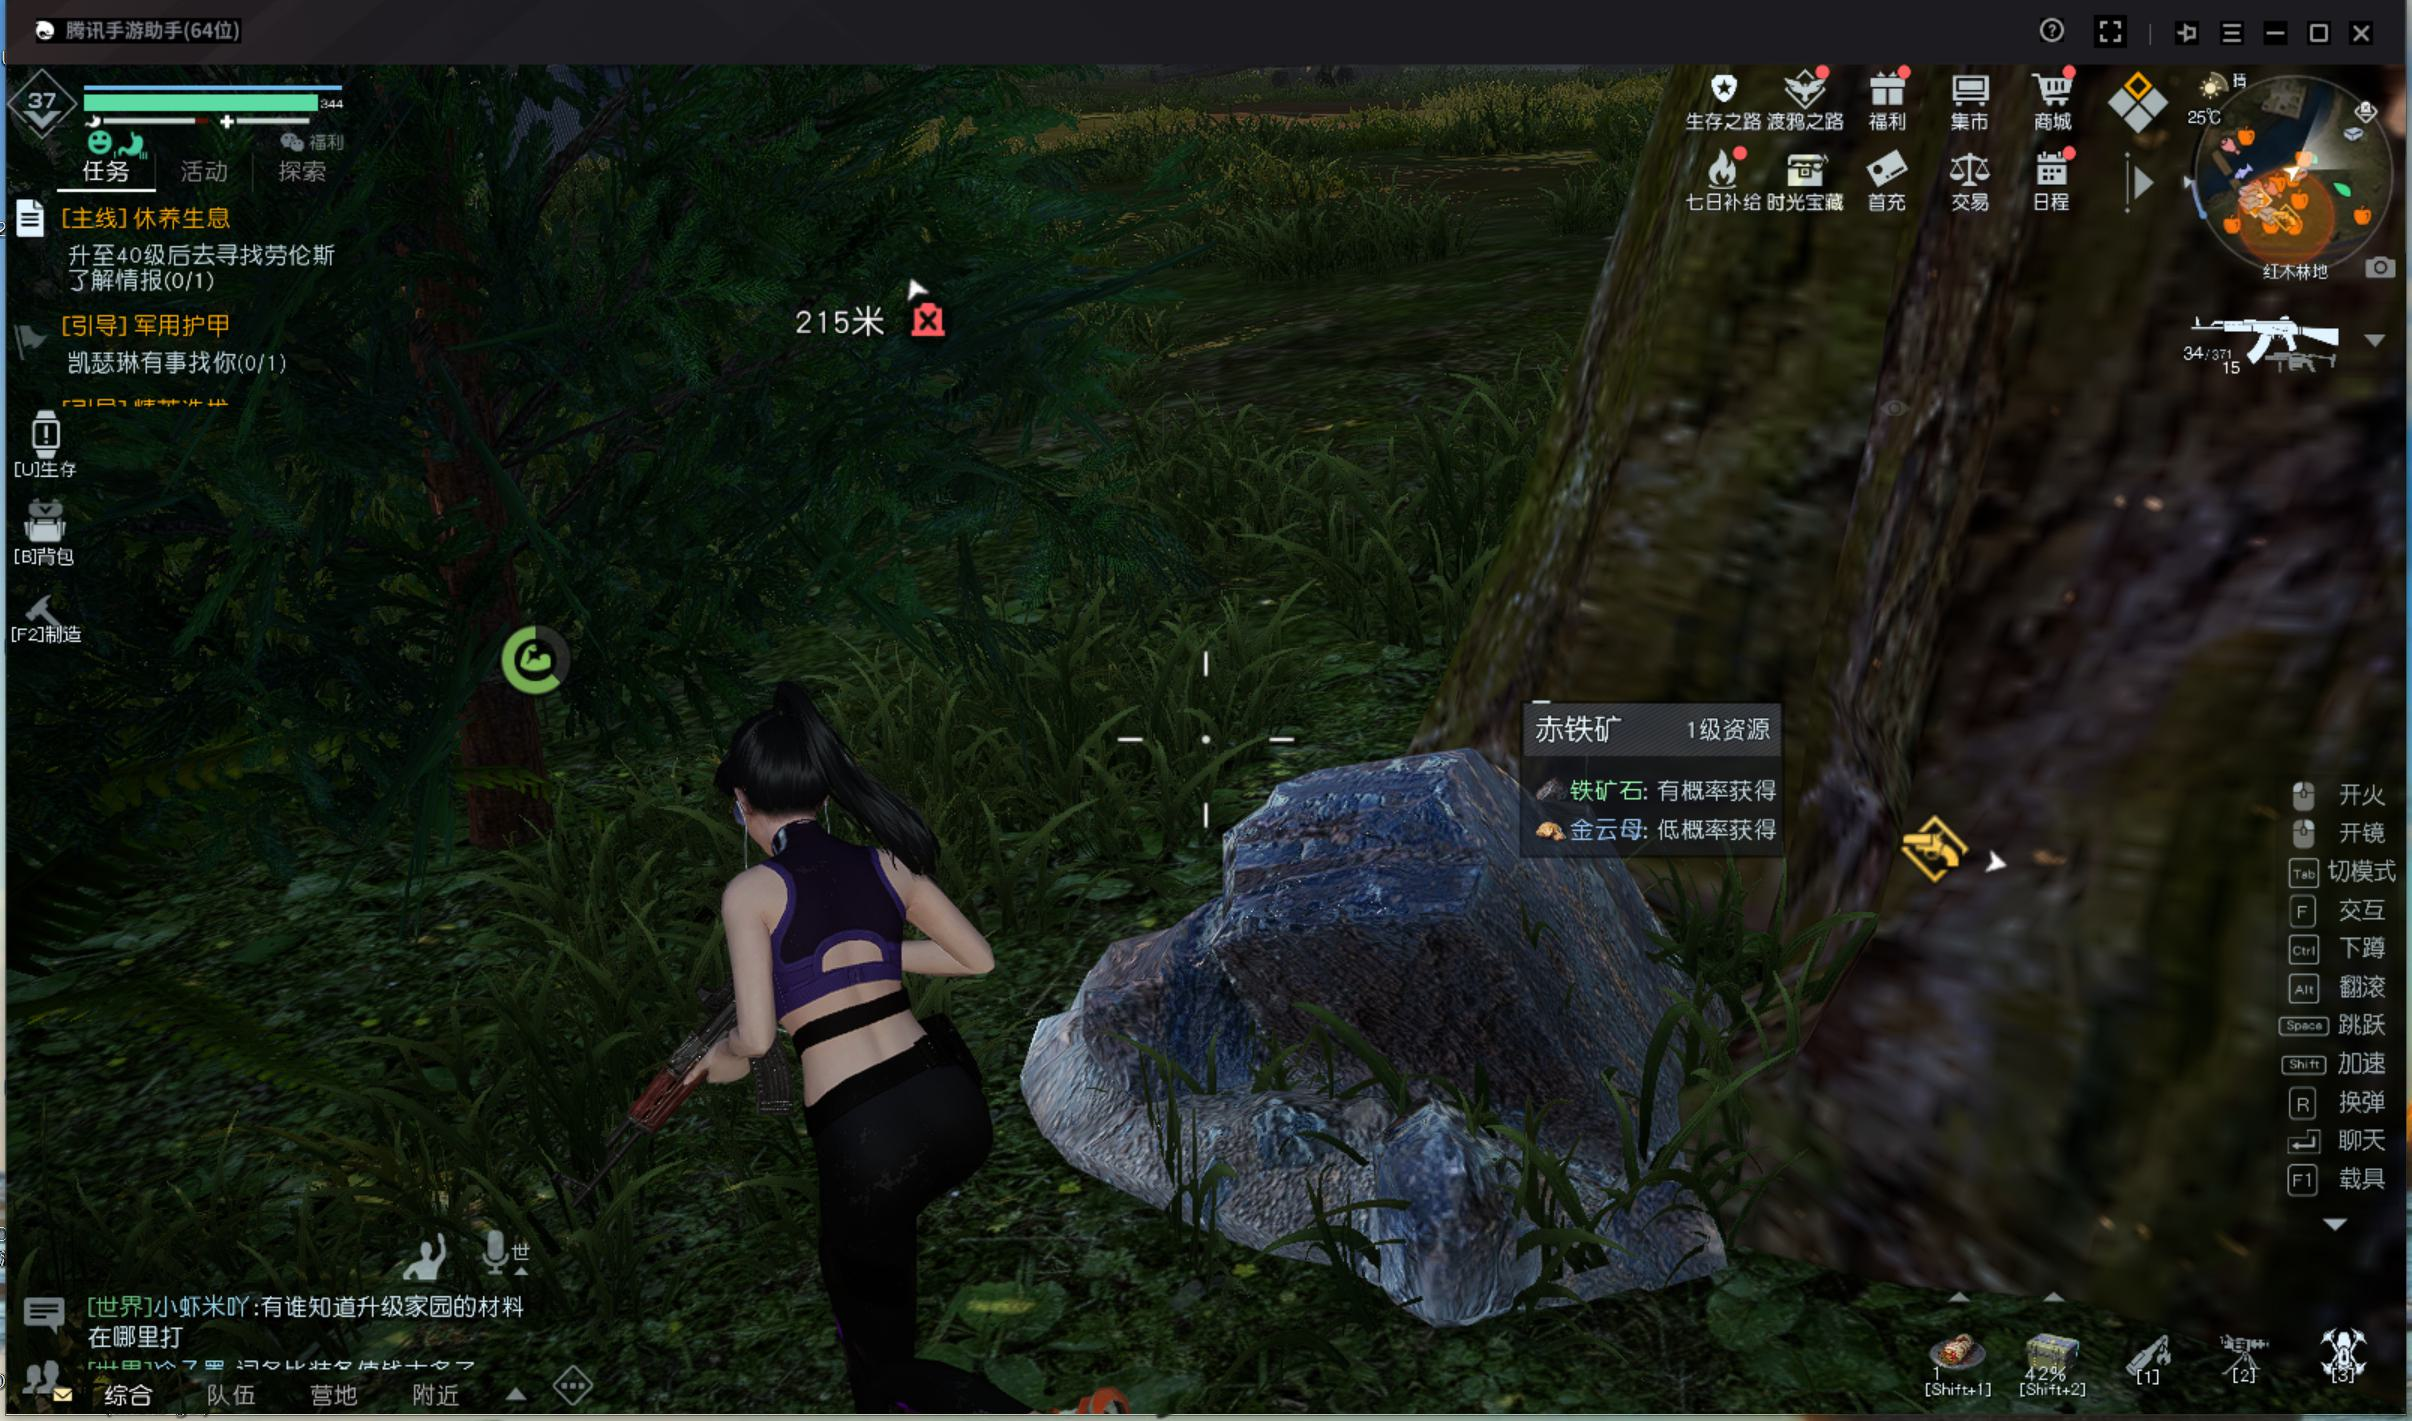stone: (1096, 700, 1725, 1286)
